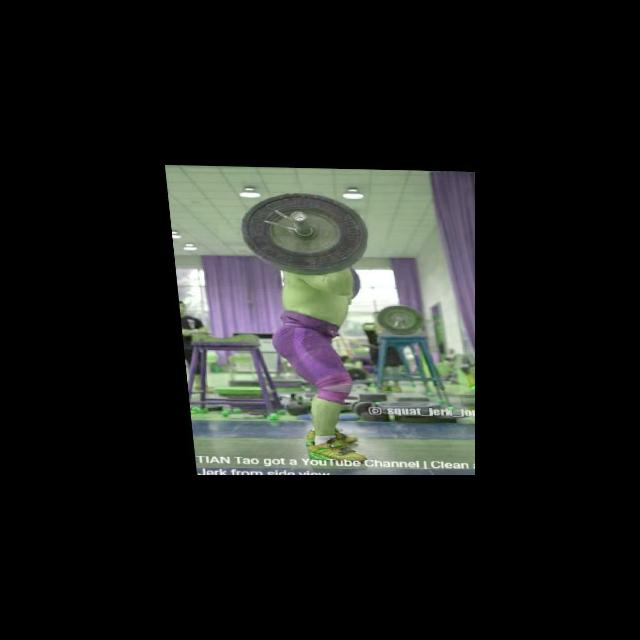barbell: (233, 186, 370, 277)
